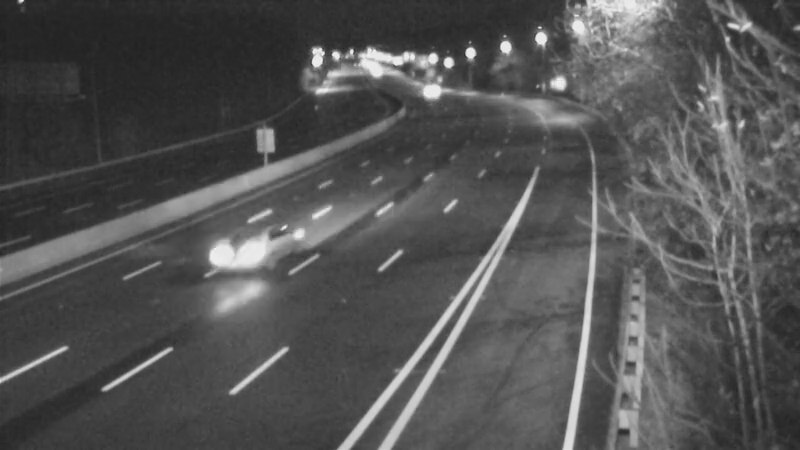vehicle: (196, 209, 276, 289), (400, 65, 450, 115)
